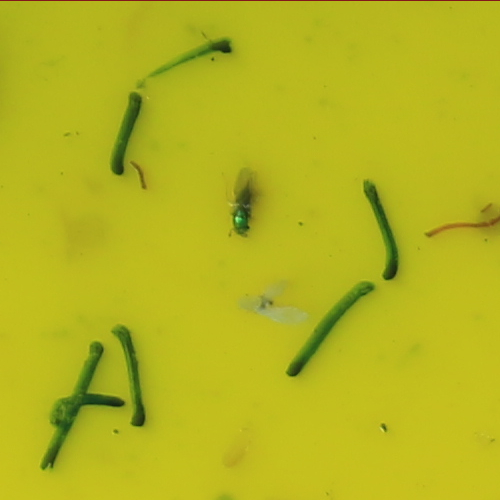wasp: (221, 180, 258, 237)
